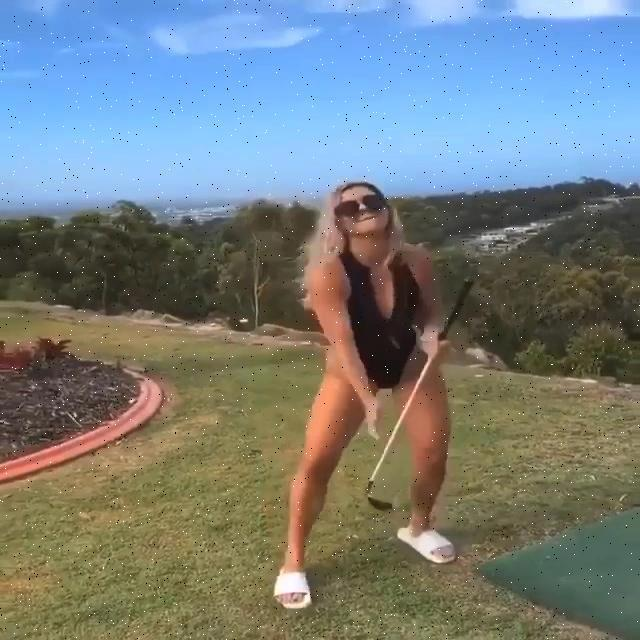golf club-handle: (364, 276, 475, 510)
golf club-head: (364, 496, 392, 511)
